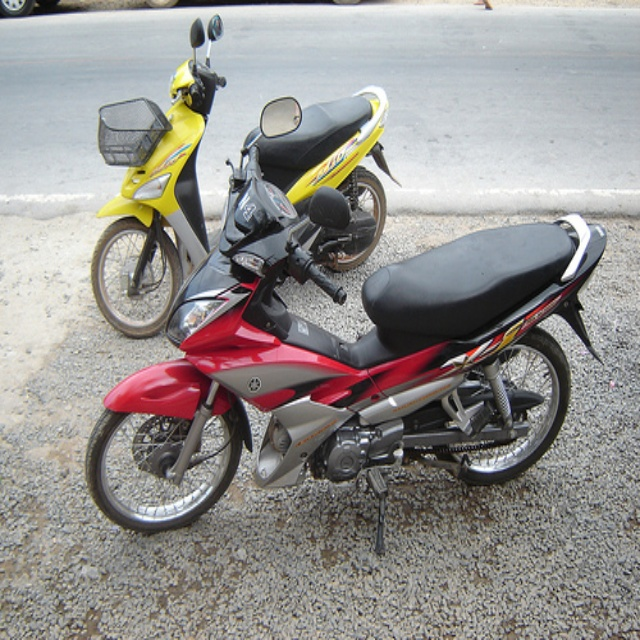Motorcycle: (83, 99, 609, 534), (90, 12, 403, 341)
